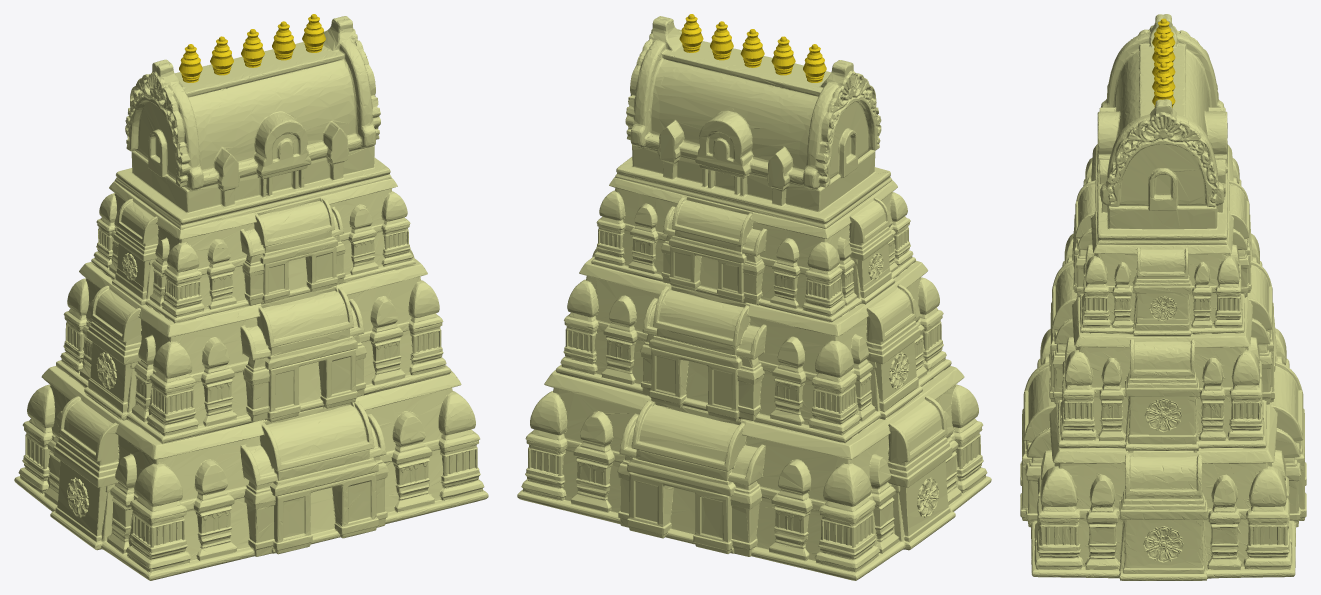
The model's file is gopuram_top-optimized.glb.
3 renders of one model, left to right at view 1: azimuth 30°, elevation 25°; view 2: azimuth 150°, elevation 25°; view 3: azimuth 270°, elevation 25°, orthographic. The views are drawn at different scales.
Parts seen in each view (by area): view 1: small_gopuram.012; view 2: small_gopuram.012; view 3: small_gopuram.012.
Boxes of the visible parts, x1=… form: small_gopuram.012: x1=14, y1=14, x2=488, y2=580; small_gopuram.012: x1=517, y1=14, x2=991, y2=580; small_gopuram.012: x1=1020, y1=14, x2=1306, y2=580.
Bounding box in the file's own units: 47.36 × 58.28 × 33.69.
